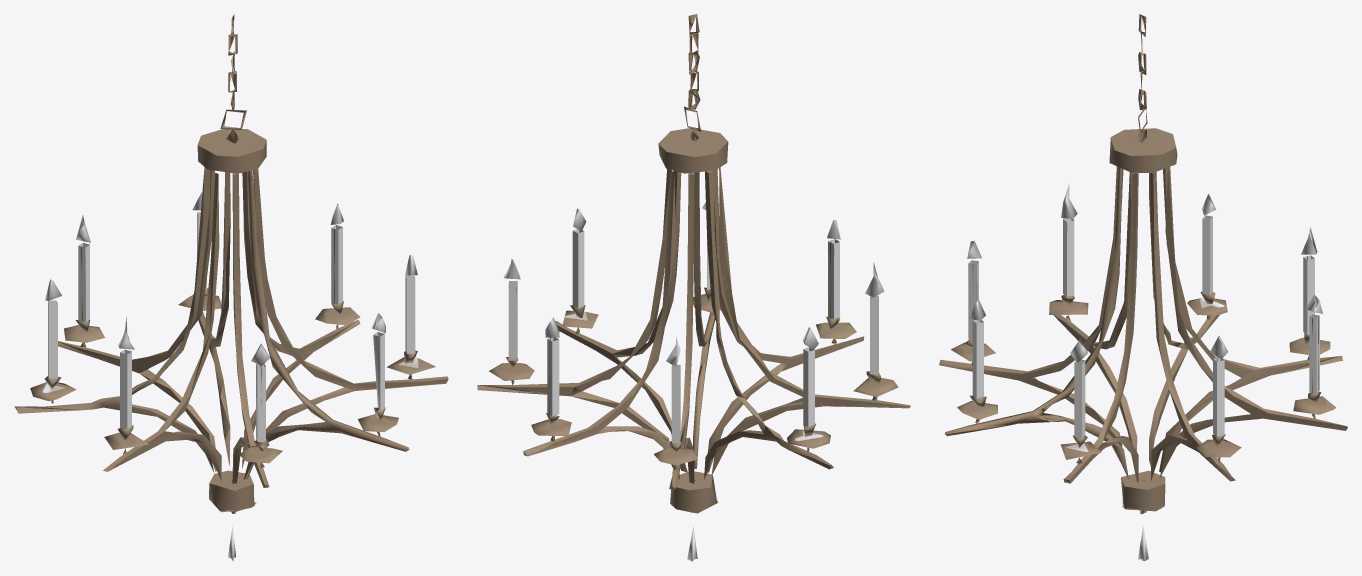
The model's file is LightTop0008.obj.
The picture shows the model from 3 angles, left to right: view 1: azimuth 30°, elevation 25°; view 2: azimuth 150°, elevation 25°; view 3: azimuth 270°, elevation 25°; orthographic projection.
Size of the model in its own units: 0.647 by 0.947 by 0.643.
1 material, 1 textured.
